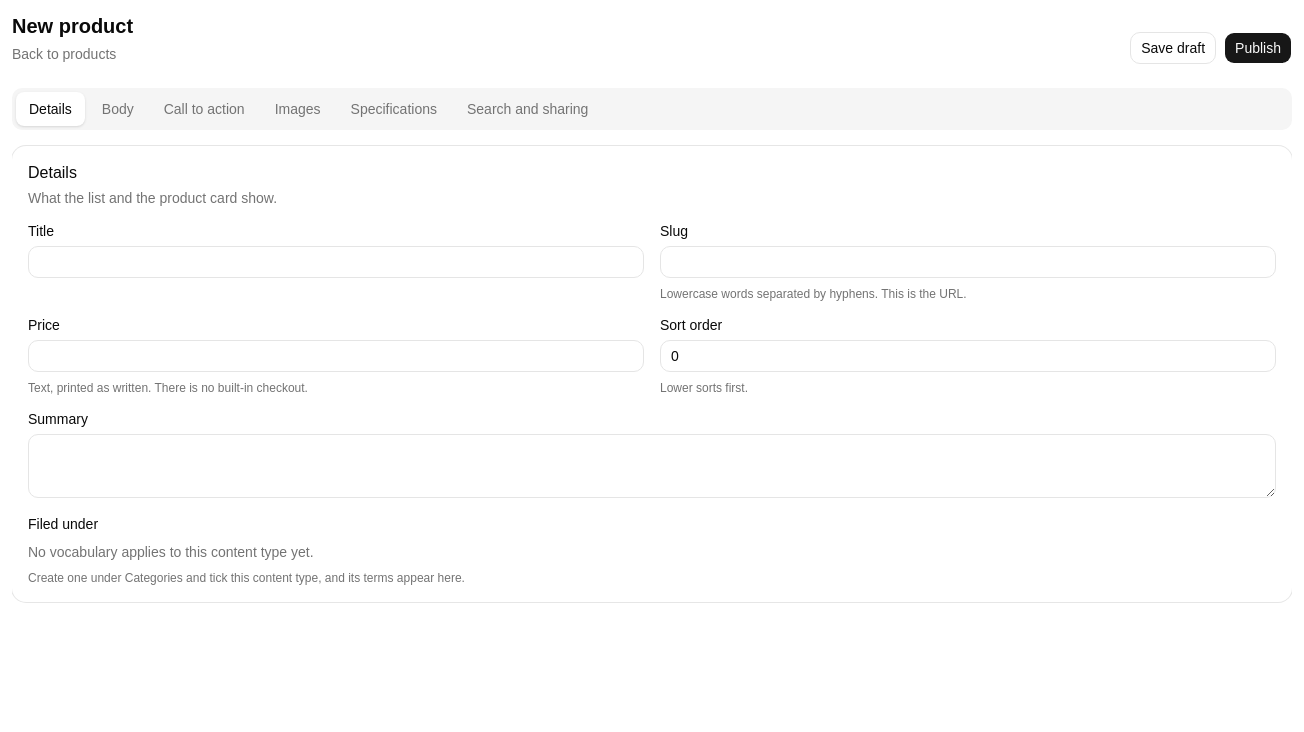
Scenario: creating a product › reports a taken slug on the field
In the field labelled "Title": (336, 262) 28,246 -> 644,278, type "Desk lamp"
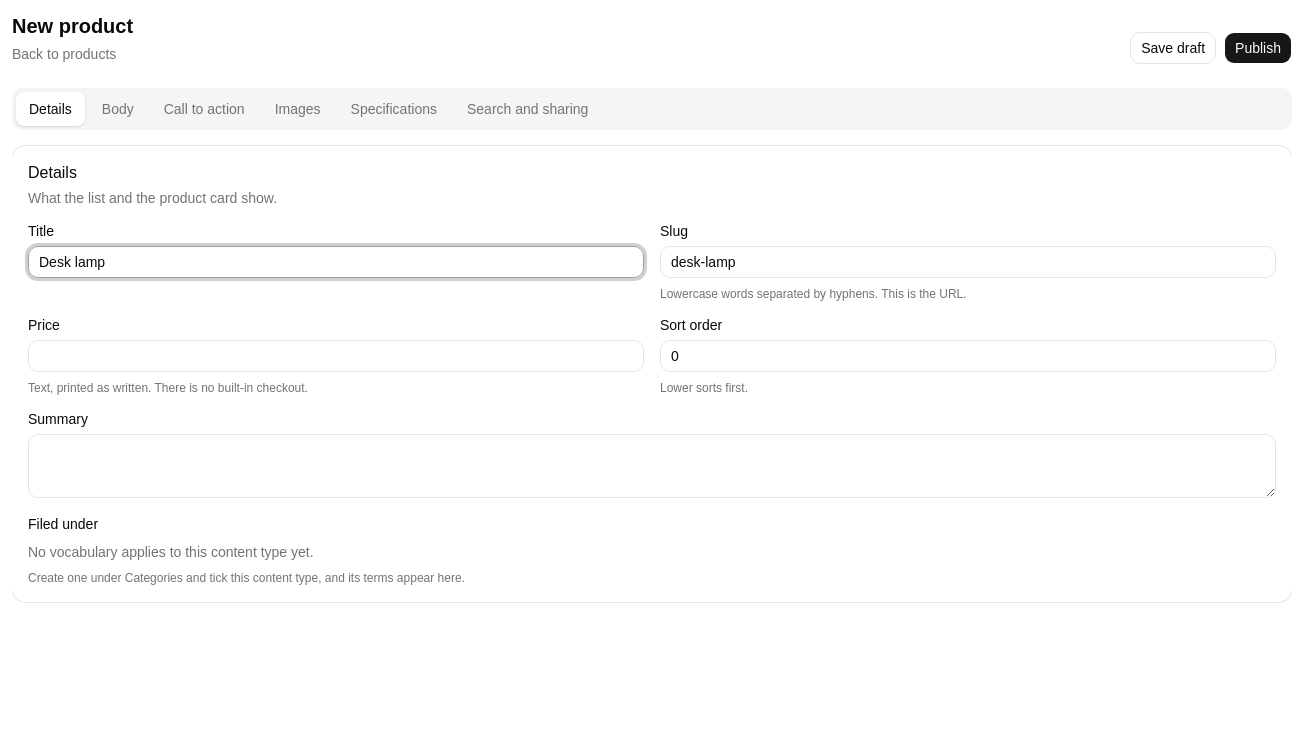
Click the button "Publish": click(1258, 48) 1224,32 -> 1292,64
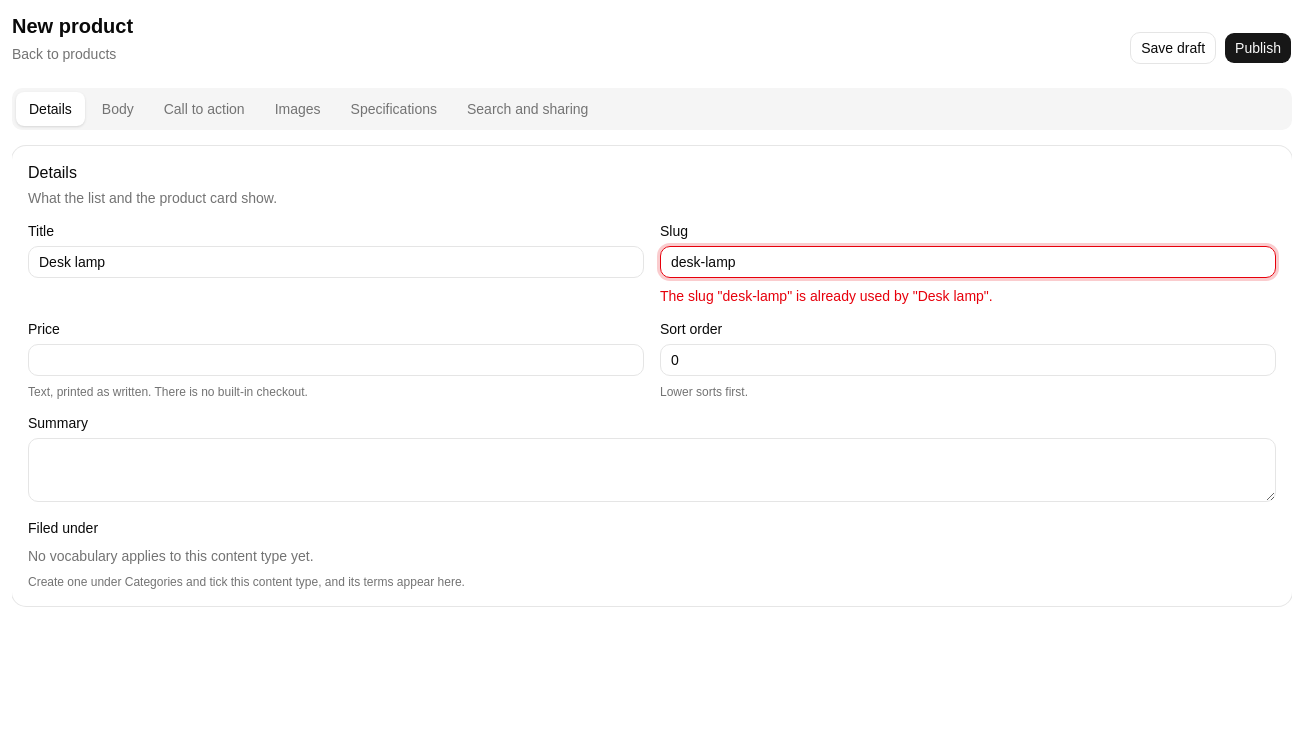
Expected: the text "The slug \"desk-lamp\" is already used by \"Desk lamp\"." is shown, 660,288 -> 993,304
